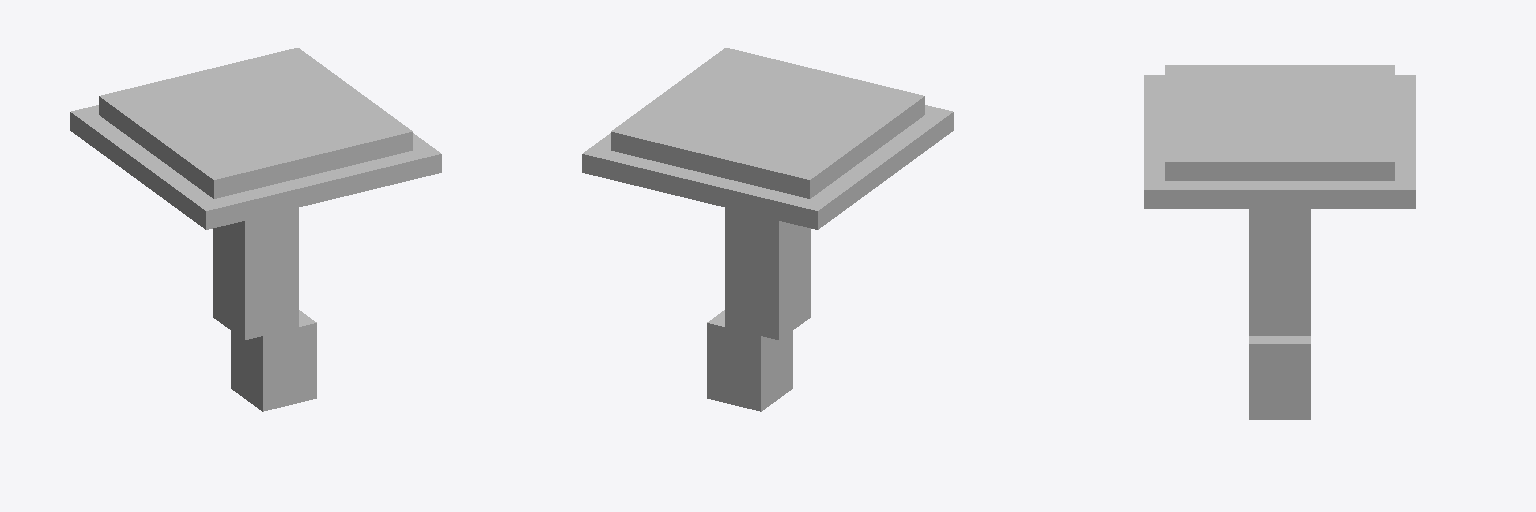
The model's file is Mushroom.obj.
3 views of the same model, side by side, from view 1: azimuth 30°, elevation 25°; view 2: azimuth 150°, elevation 25°; view 3: azimuth 270°, elevation 25° (orthographic).
Parts seen in each view (by area): view 1: object 1; view 2: object 1; view 3: object 1.
Part boxes in pixels (bbox=[...]): object 1: bbox=[70, 48, 441, 411]; object 1: bbox=[582, 48, 953, 411]; object 1: bbox=[1144, 65, 1415, 419].
Size of the model in its own units: 1.3 by 1.5 by 1.3.